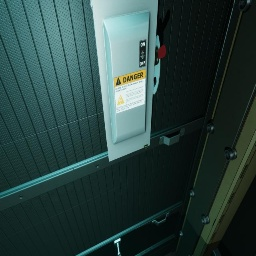SafetySwitchPanel ,: (90, 0, 166, 162)
